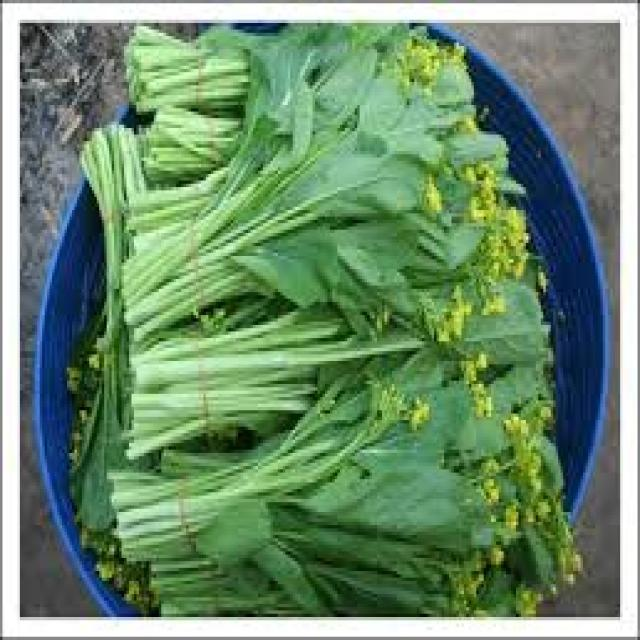bokchoy: (83, 24, 547, 597)
